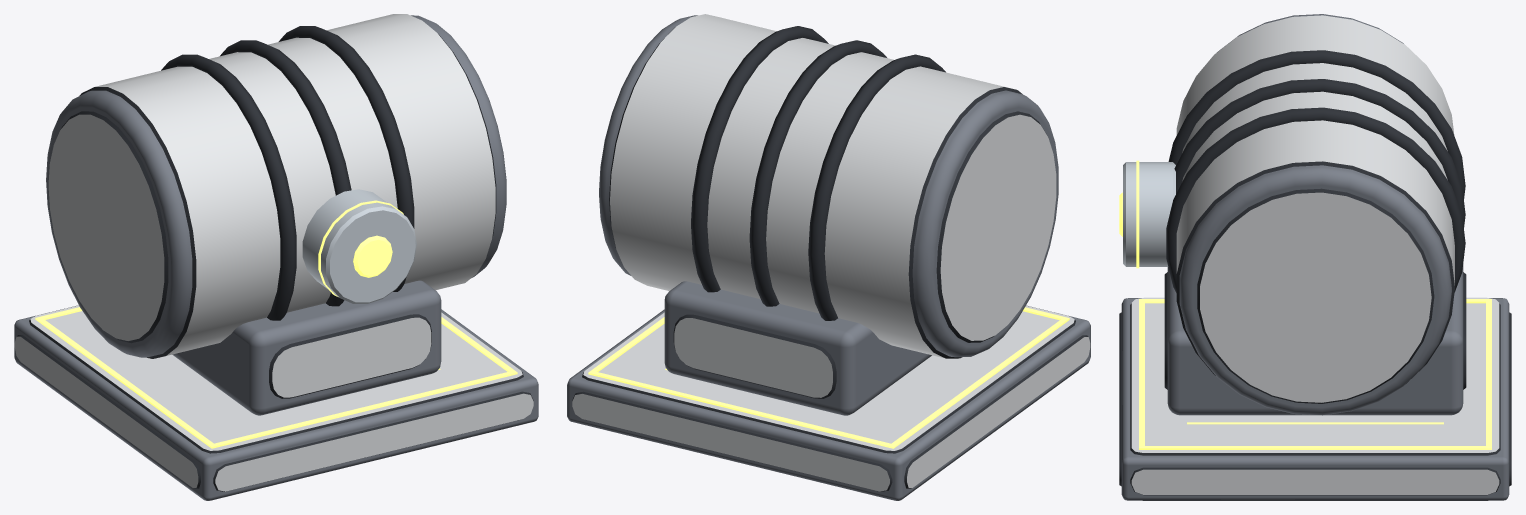
The model's file is R4X_DrivePower.fbx.
3 renders of one model, left to right at view 1: azimuth 30°, elevation 25°; view 2: azimuth 150°, elevation 25°; view 3: azimuth 270°, elevation 25°, orthographic.
Parts seen in each view (by area): view 1: R4X_DrivePower_Body; view 2: R4X_DrivePower_Body; view 3: R4X_DrivePower_Body.
Boxes of the visible parts, bbox=[...] form: R4X_DrivePower_Body: bbox=[14, 14, 538, 500]; R4X_DrivePower_Body: bbox=[567, 14, 1090, 500]; R4X_DrivePower_Body: bbox=[1119, 14, 1511, 500].
Bounding box in the file's own units: 0.52 × 0.5037 × 0.52.
